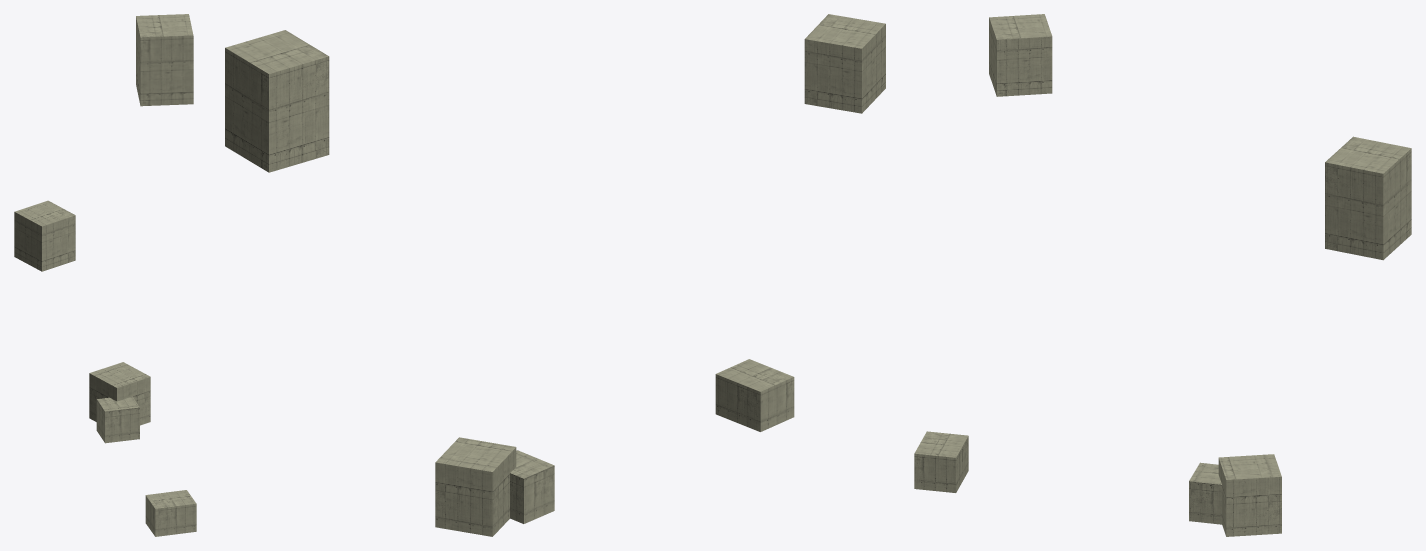
The model's file is SM_NeoLD_00_Block_01.fbx.
3 renders of one model, left to right at view 1: azimuth 30°, elevation 25°; view 2: azimuth 150°, elevation 25°; view 3: azimuth 270°, elevation 25°, orthographic. The views are drawn at different scales.
Parts seen in each view (by area): view 1: SM_NeoLD_00_Block_01; view 2: SM_NeoLD_00_Block_01; view 3: SM_NeoLD_00_Block_01.
Part boxes in pixels (box(x1,y1,x2,y2)): SM_NeoLD_00_Block_01: box(14, 14, 196, 536); SM_NeoLD_00_Block_01: box(225, 14, 885, 536); SM_NeoLD_00_Block_01: box(914, 14, 1411, 536).
Bounding box in the file's own units: 1522 × 1589 × 1685.
